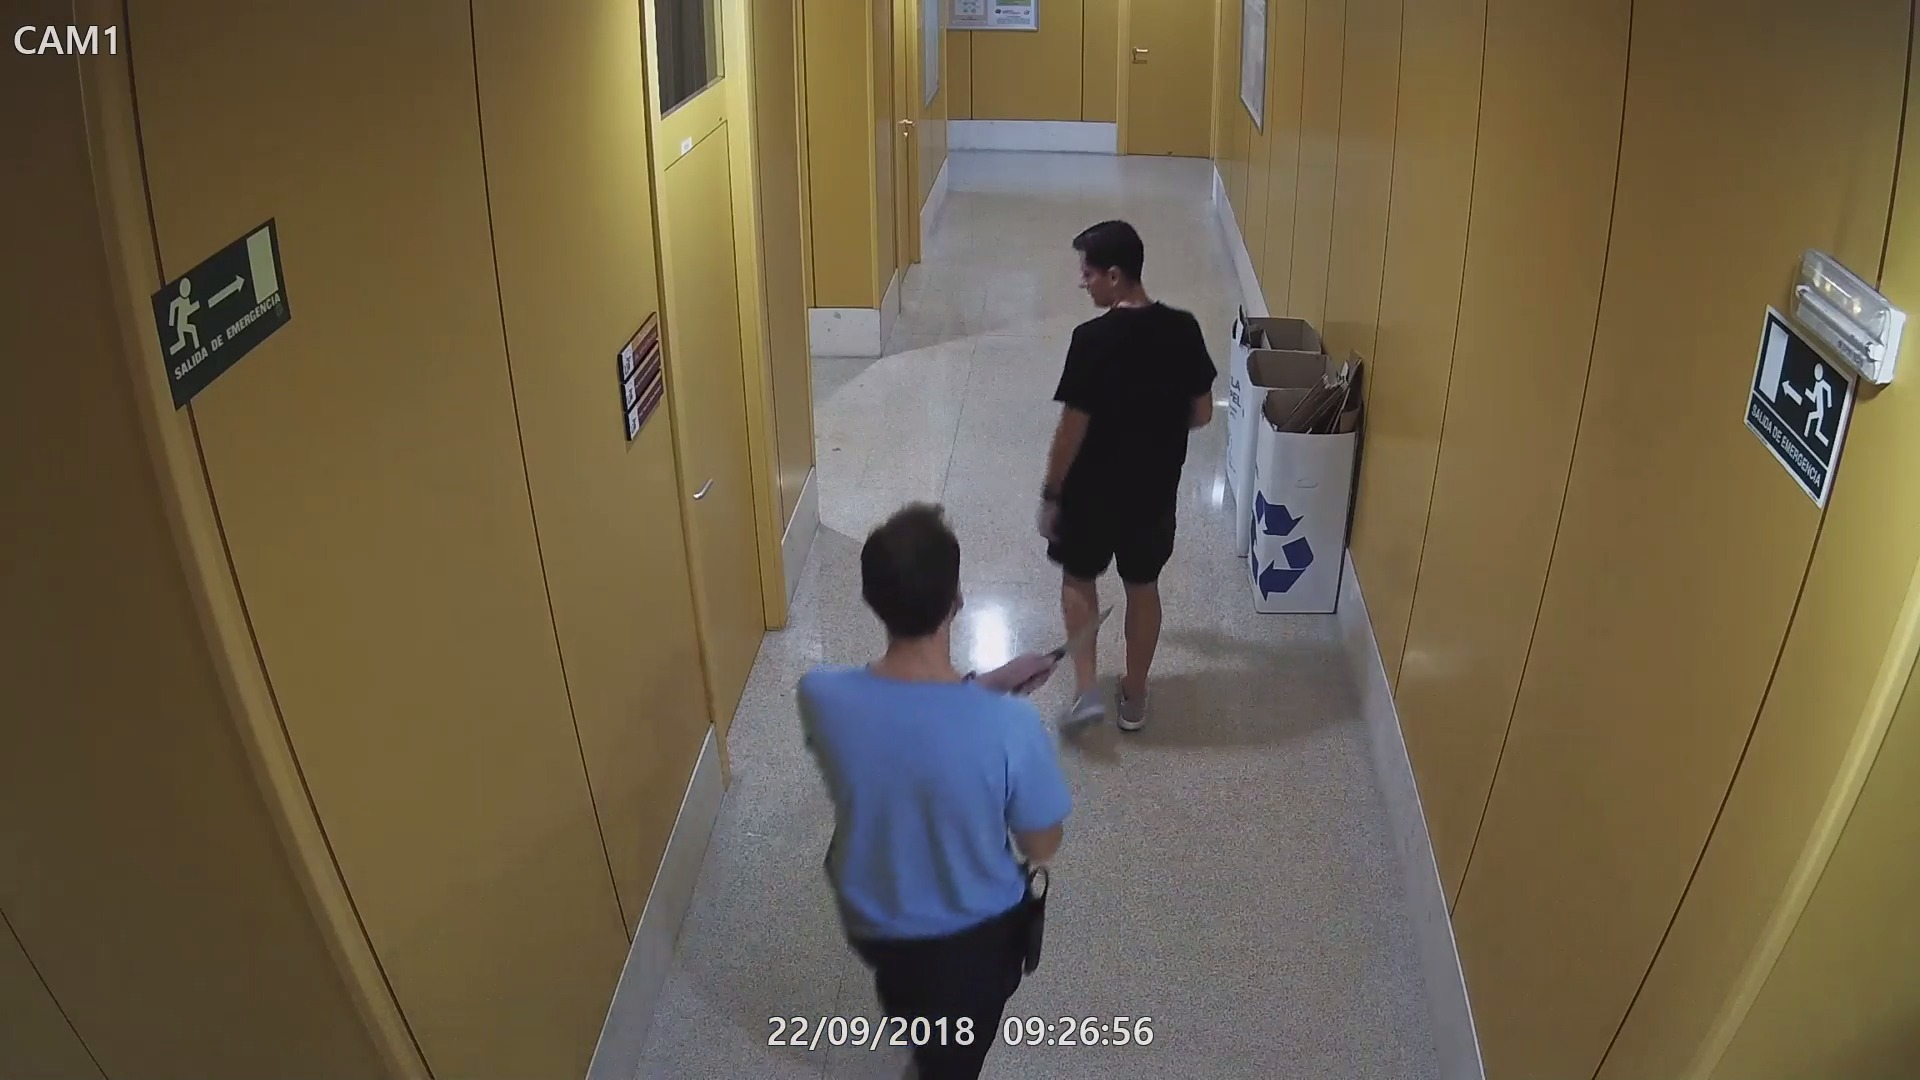Knife: (1007, 603, 1112, 705)
